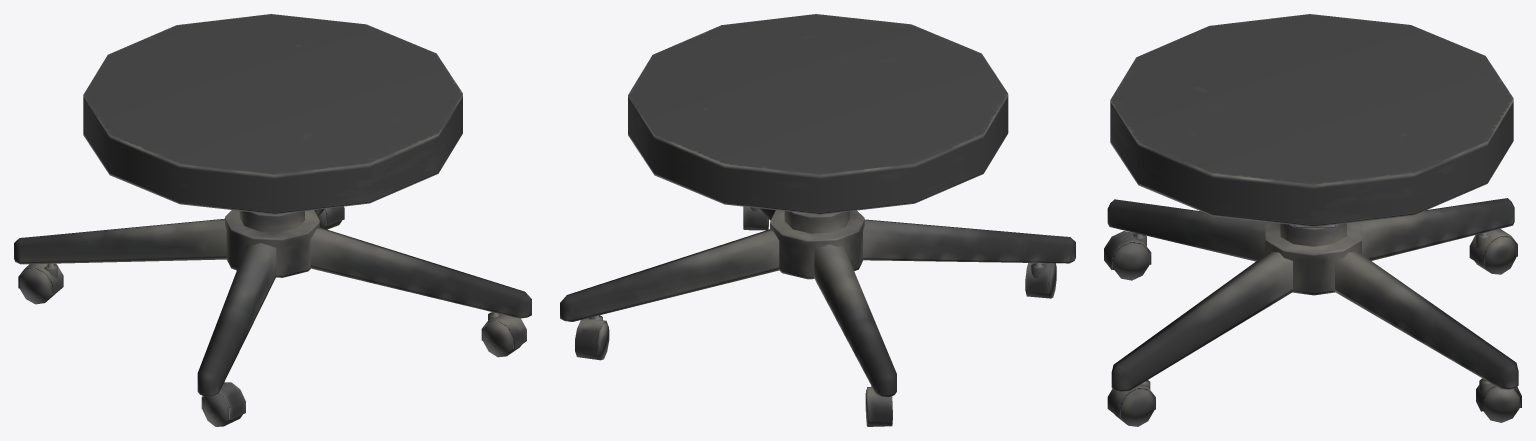
File: a_w23_i21_chair01.gltf
The picture shows the model from 3 angles, left to right: view 1: azimuth 30°, elevation 25°; view 2: azimuth 150°, elevation 25°; view 3: azimuth 270°, elevation 25°; orthographic projection. The views are drawn at different scales.
Parts seen in each view (by area): view 1: a_w23_i21_chair01_mesh_shape:a_w23_i21_chair01_main_lmg11; view 2: a_w23_i21_chair01_mesh_shape:a_w23_i21_chair01_main_lmg11; view 3: a_w23_i21_chair01_mesh_shape:a_w23_i21_chair01_main_lmg11.
Part boxes in pixels (x1,y1,x2,y2): a_w23_i21_chair01_mesh_shape:a_w23_i21_chair01_main_lmg11: (14,14,531,426); a_w23_i21_chair01_mesh_shape:a_w23_i21_chair01_main_lmg11: (560,14,1075,426); a_w23_i21_chair01_mesh_shape:a_w23_i21_chair01_main_lmg11: (1104,14,1521,426).
Bounding box in the file's own units: 0.5341 × 0.3541 × 0.543.
Materials: 1 (1 with a texture image).
